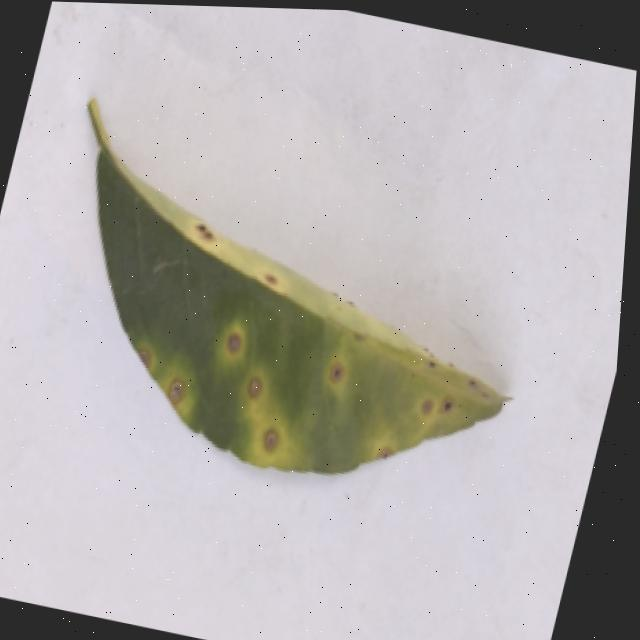canker: (91, 105, 498, 472), (225, 432, 421, 488), (452, 383, 508, 431), (136, 350, 157, 383), (420, 397, 455, 414), (166, 383, 182, 404), (224, 335, 239, 351), (328, 363, 341, 380), (247, 381, 258, 397)
